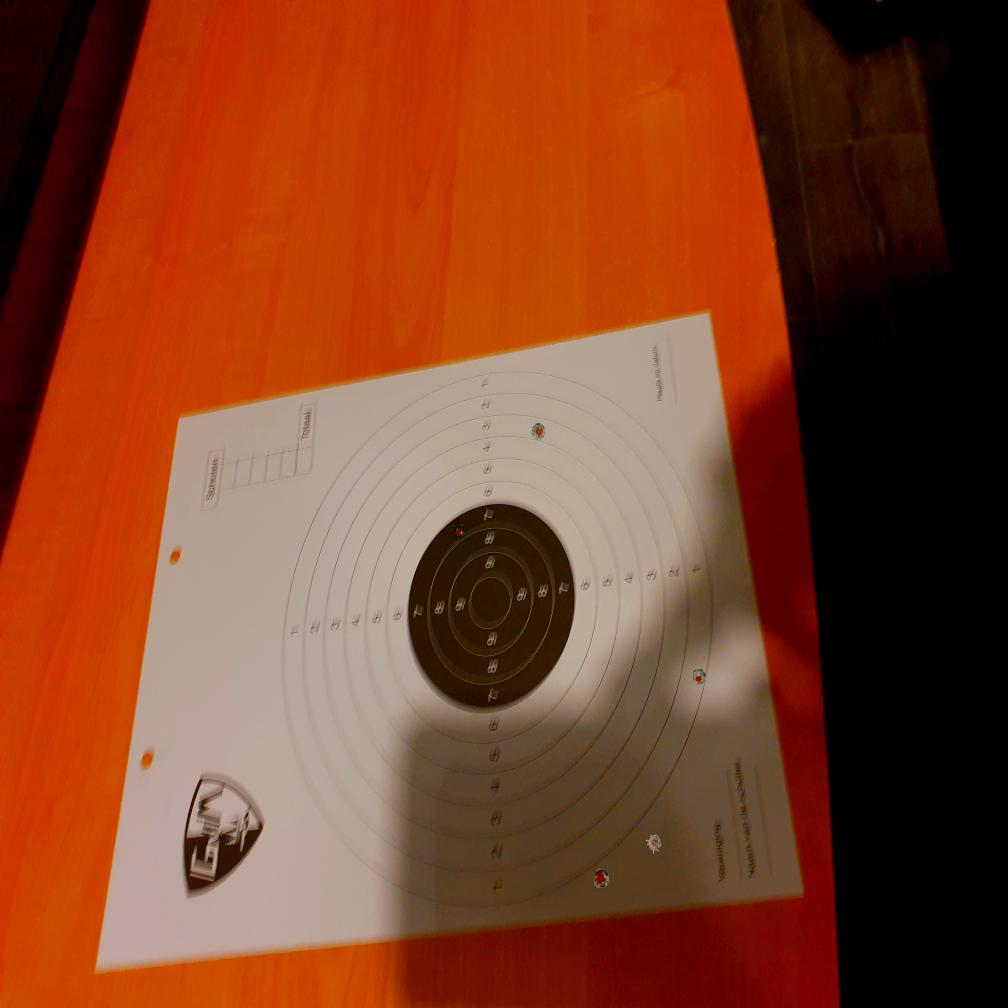0: (646, 834, 662, 854), (594, 869, 610, 888)
1: (692, 666, 706, 685)
4: (531, 422, 545, 440)
7: (451, 521, 468, 540)
Target: (279, 365, 717, 913)
black_contour: (406, 502, 576, 712)
